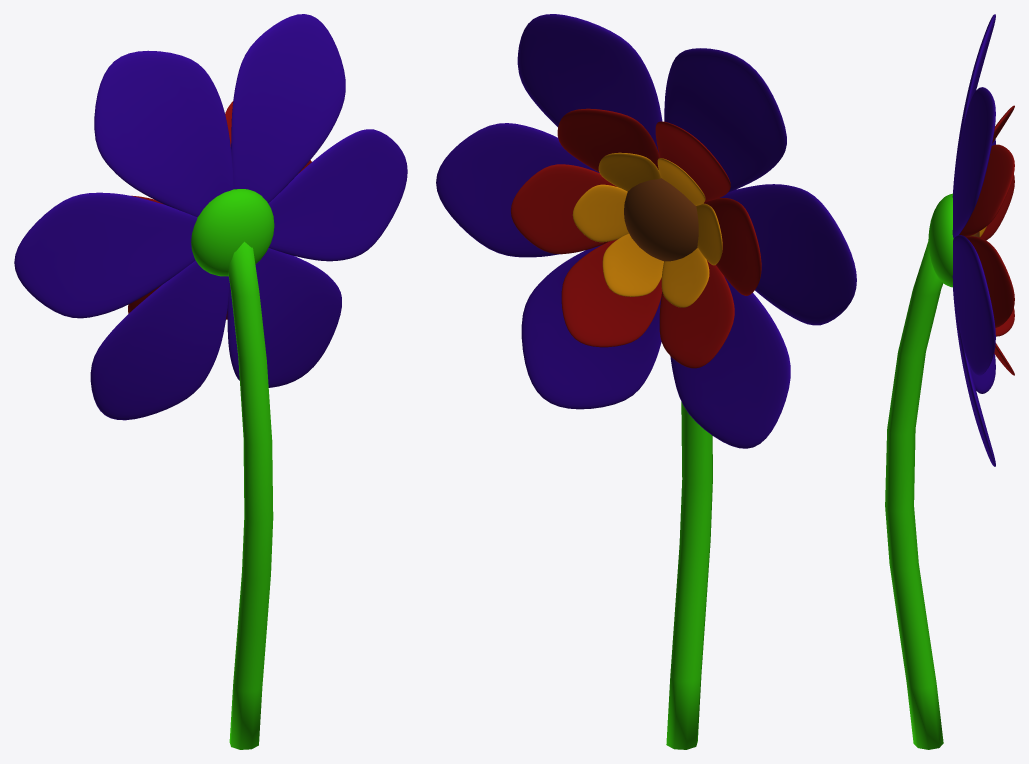
Rendered from Flower_01.fbx.
3 views of the same model, side by side, from view 1: azimuth 30°, elevation 25°; view 2: azimuth 150°, elevation 25°; view 3: azimuth 270°, elevation 25° (orthographic). The views are drawn at different scales.
Parts seen in each view (by area): view 1: Flower 01; view 2: Flower 01; view 3: Flower 01.
Part boxes in pixels (x1,y1,x2,y2): Flower 01: (14, 14, 407, 749); Flower 01: (436, 14, 856, 749); Flower 01: (885, 14, 1014, 749).
Size of the model in its own units: 177 by 295 by 50.47.
